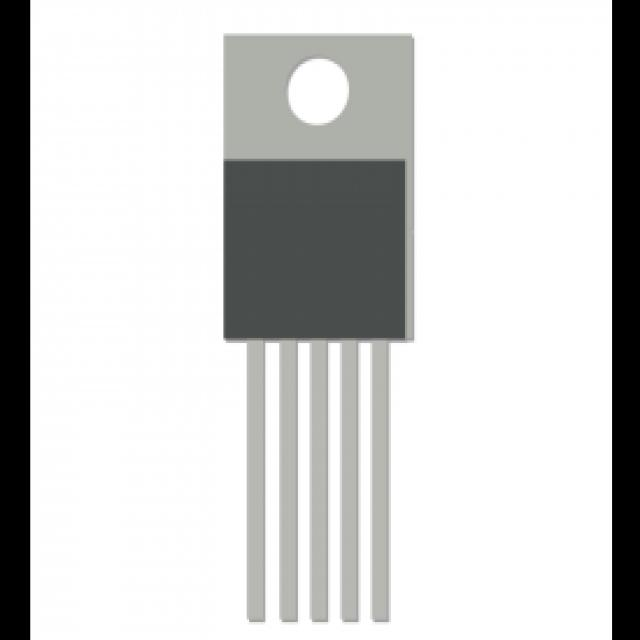Transistor: (223, 42, 413, 618)
